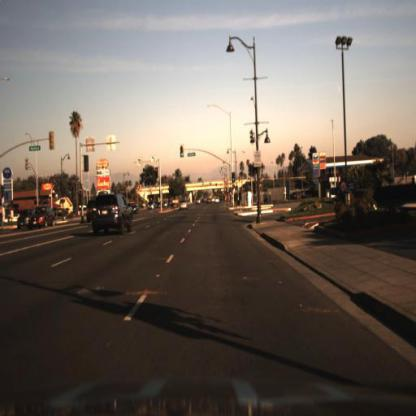car: (91, 190, 136, 236), (30, 207, 56, 231), (19, 209, 37, 230), (83, 203, 95, 227), (180, 197, 191, 212), (148, 200, 158, 212)
trafficLight-Green: (231, 167, 239, 185), (179, 144, 185, 161), (231, 173, 237, 185)
trafficLight-Red: (153, 162, 159, 180)
